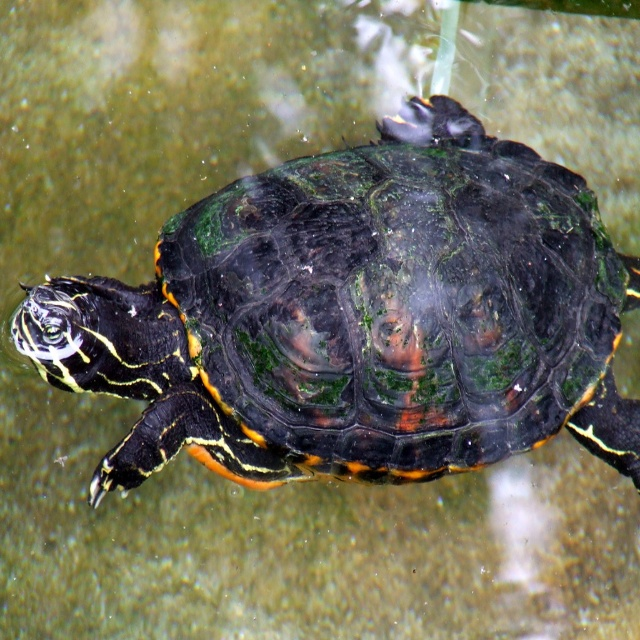Tortoise: (7, 95, 639, 509)
